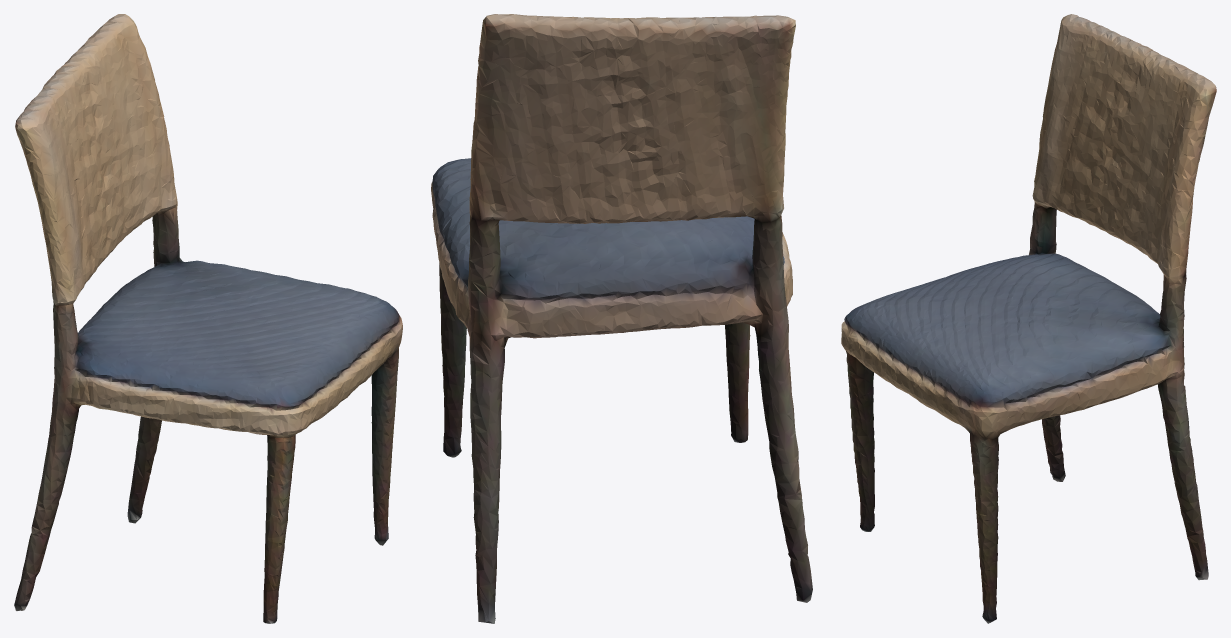
3 renders of one model, left to right at view 1: azimuth 30°, elevation 25°; view 2: azimuth 150°, elevation 25°; view 3: azimuth 270°, elevation 25°, orthographic. The views are drawn at different scales.
Parts seen in each view (by area): view 1: geometry_0; view 2: geometry_0; view 3: geometry_0.
Boxes of the visible parts, x1,y1,x2,y2 form: geometry_0: (14, 14, 402, 623); geometry_0: (431, 14, 812, 623); geometry_0: (841, 14, 1216, 623).
Bounding box in the file's own units: 0.6331 × 0.8803 × 0.6083.
